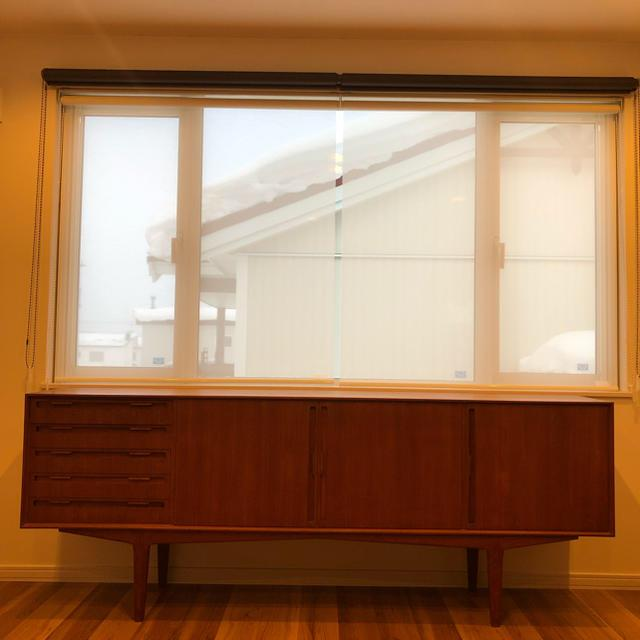vintage shelf: (20, 384, 619, 626)
